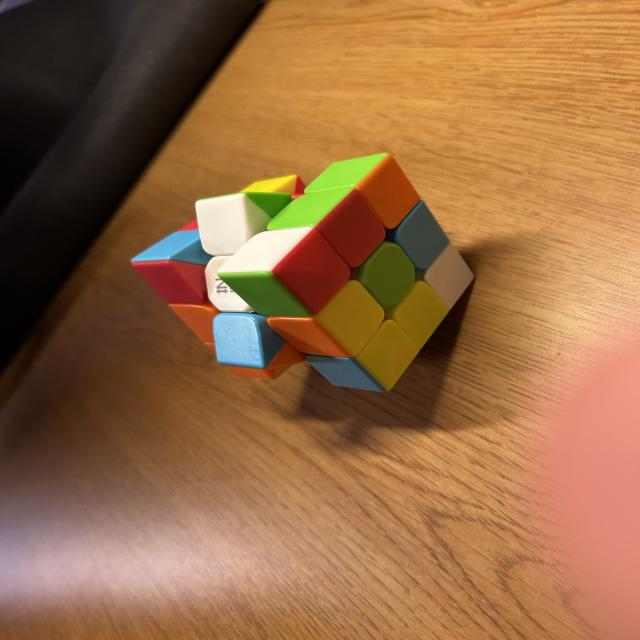Rubiks Cube: (133, 153, 473, 394)
